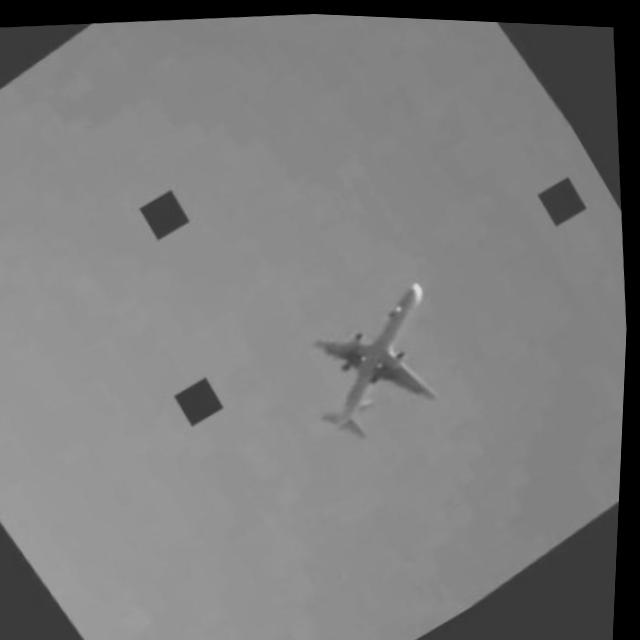aeroplane: (270, 259, 489, 459)
